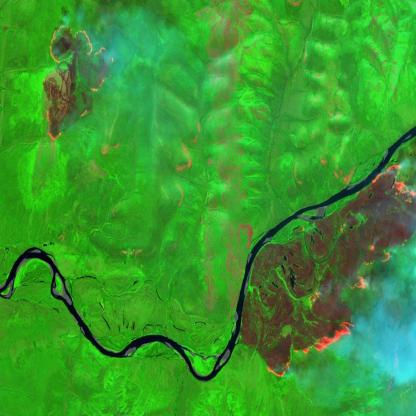fire: (265, 163, 416, 380), (41, 22, 115, 143)
